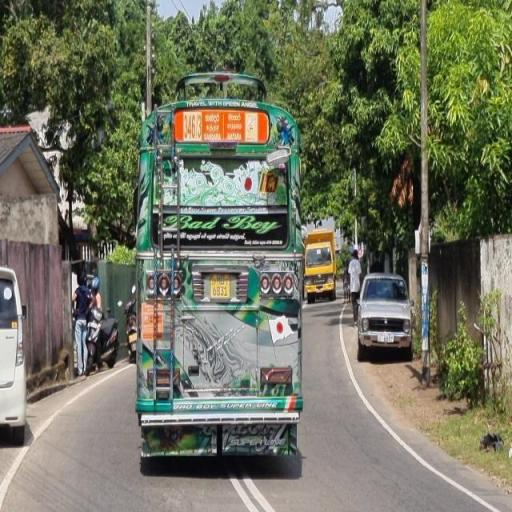double_white_line: (335, 306, 498, 512), (230, 477, 275, 512)
